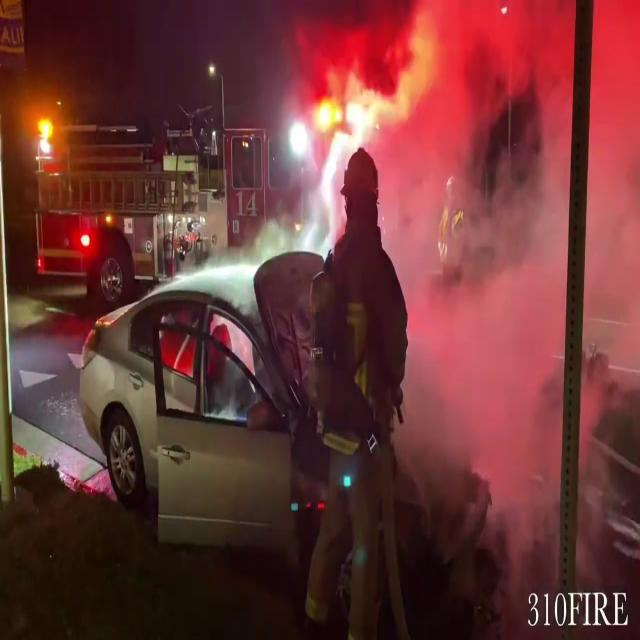Smoke: (378, 0, 569, 543)
